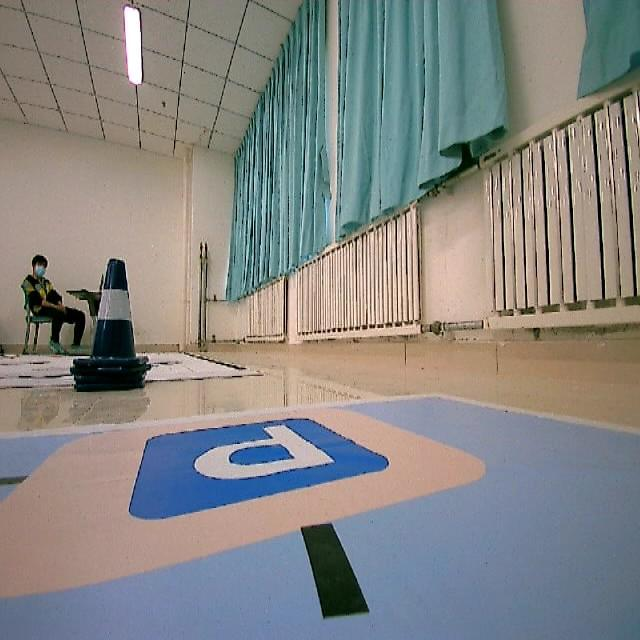obstacle: (72, 245, 150, 398)
